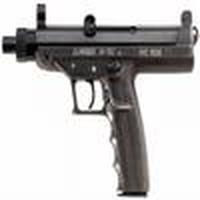gun: (4, 21, 196, 200)
